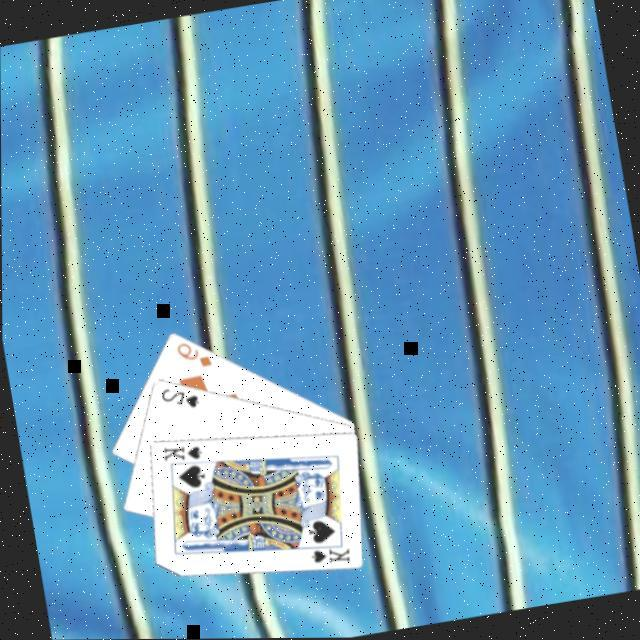2S: (153, 379, 200, 415)
9D: (170, 334, 213, 374)
KS: (301, 536, 351, 571), (155, 437, 203, 467)
